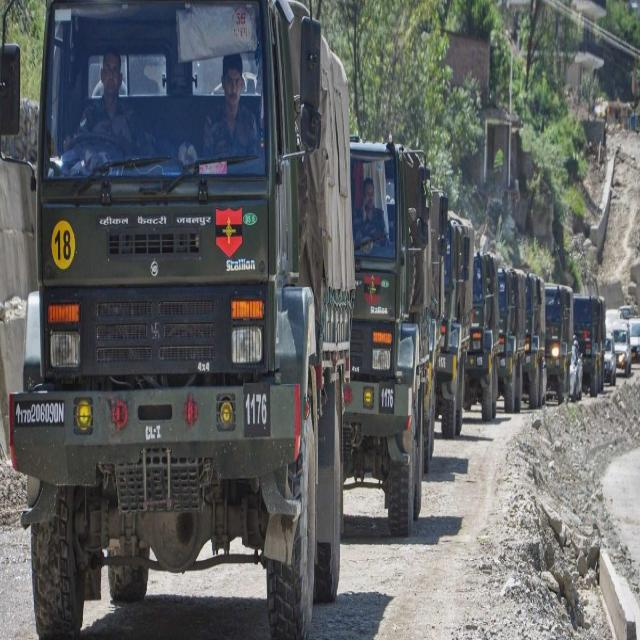military-plate: (12, 399, 66, 428)
unit number: (242, 382, 270, 441), (378, 386, 395, 412), (437, 357, 446, 370), (476, 354, 483, 368), (500, 358, 505, 368), (526, 356, 530, 364)
